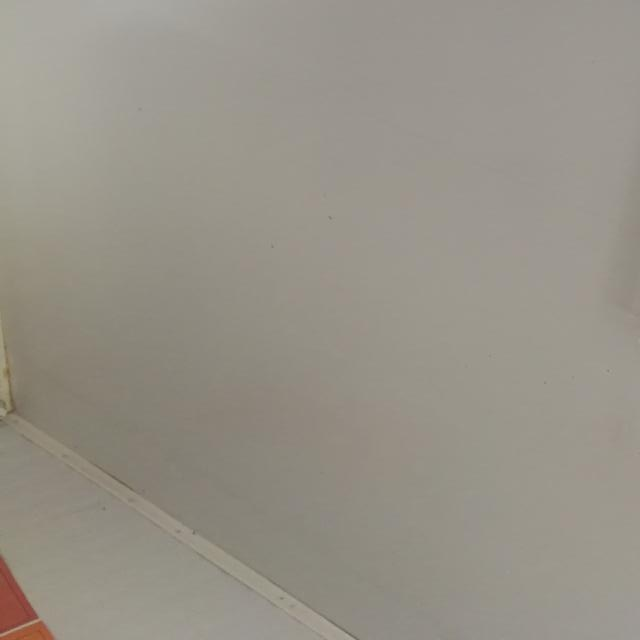fluorescent tube: (613, 0, 640, 383)
